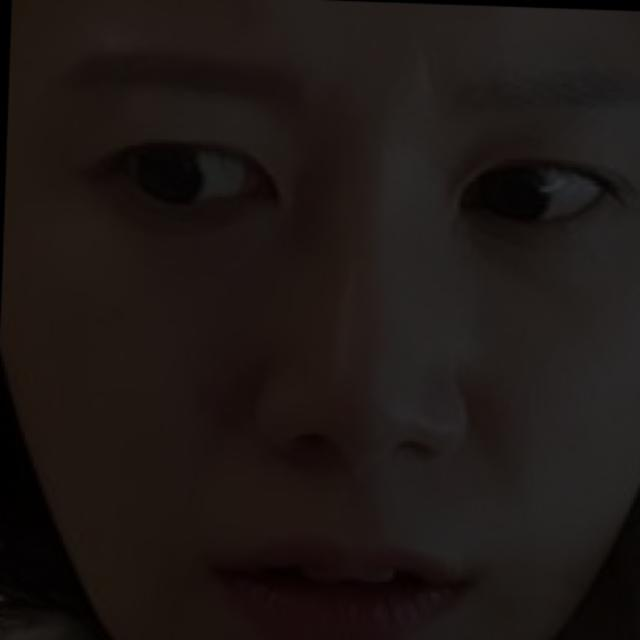Natural: (54, 44, 640, 640)
